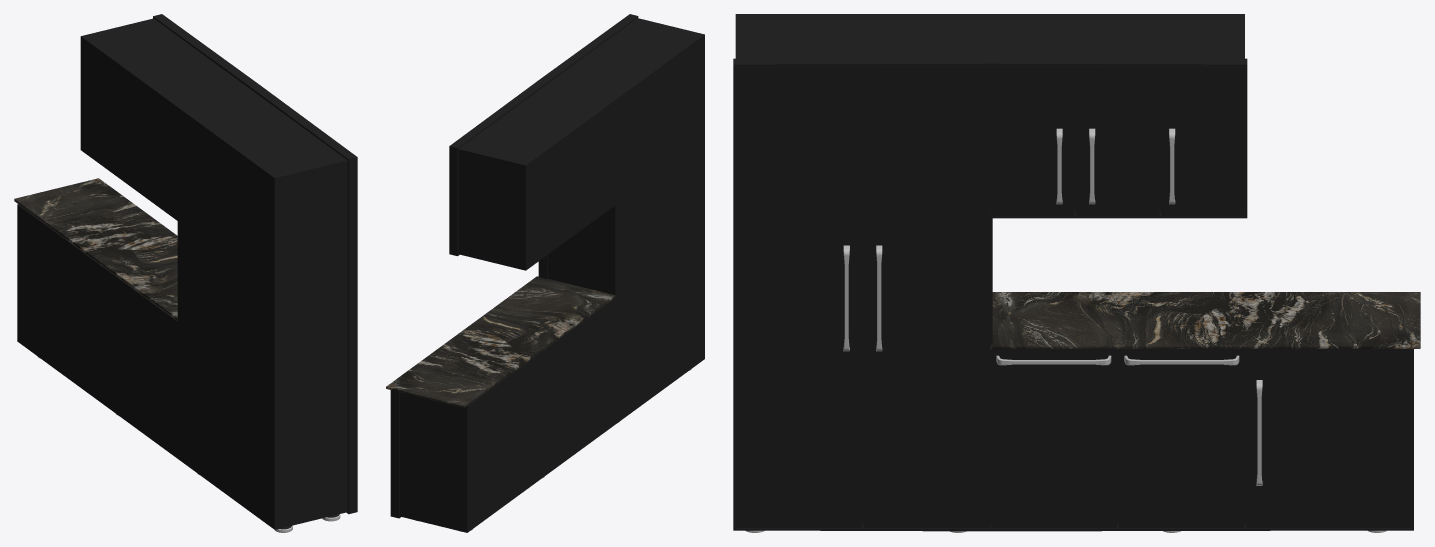
3 renders of one model, left to right at view 1: azimuth 30°, elevation 25°; view 2: azimuth 150°, elevation 25°; view 3: azimuth 270°, elevation 25°, orthographic. The views are drawn at different scales.
Parts seen in each view (by area): view 1: CABINET.001_0, CABINET.005_4; view 2: CABINET.001_0, CABINET.005_4; view 3: CABINET.002_1, CABINET.001_0, CABINET.005_4, CABINET.004_3.
Part boxes in pixels (x1,y1,x2,y2): CABINET.001_0: (17, 14, 357, 529); CABINET.005_4: (14, 178, 177, 320); CABINET.001_0: (390, 14, 704, 532); CABINET.005_4: (386, 276, 615, 407); CABINET.002_1: (735, 66, 1411, 528); CABINET.001_0: (733, 14, 1413, 531); CABINET.005_4: (990, 292, 1420, 348); CABINET.004_3: (843, 128, 1262, 485).
Size of the model in its own units: 0.5295 by 2.06 by 2.7.
4 materials, 1 textured.
